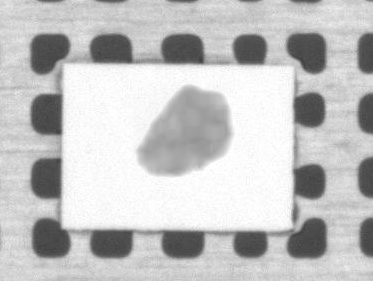DIE_INK: (133, 88, 228, 177)
